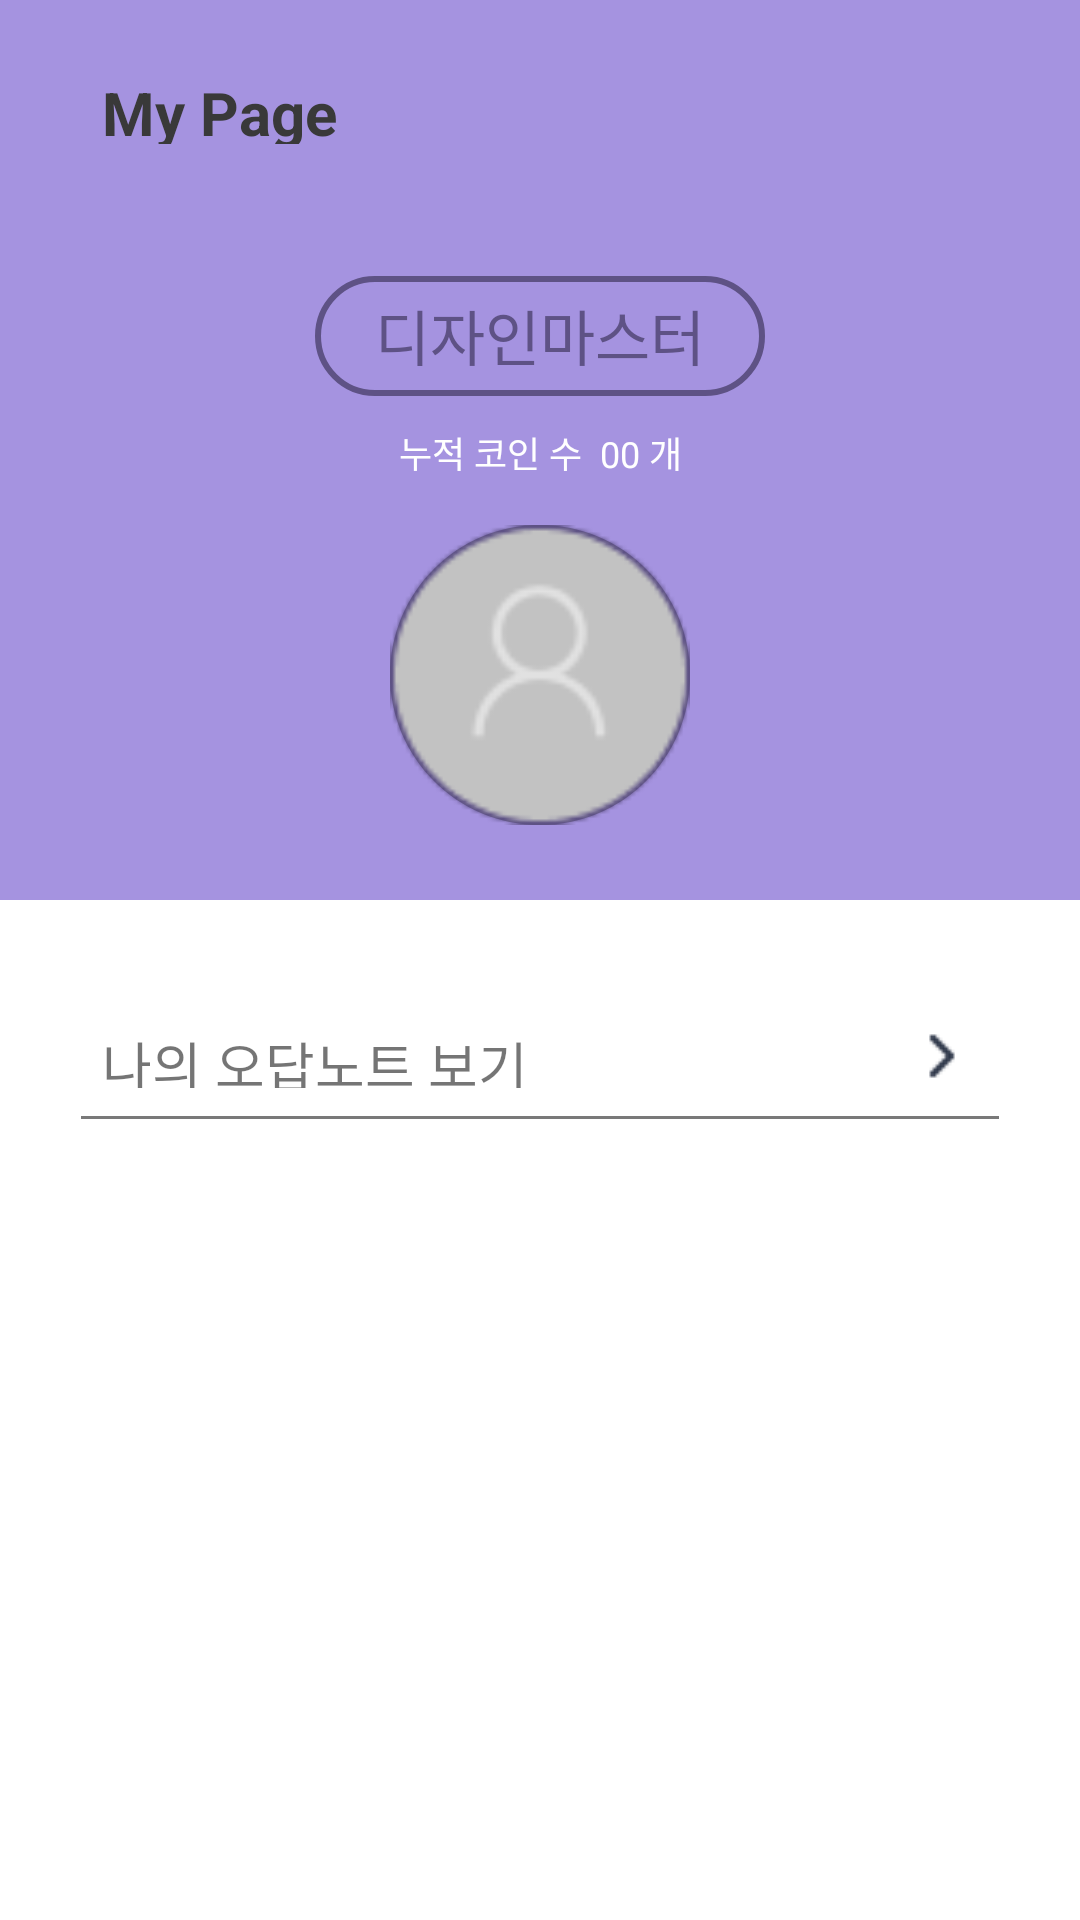

Where to tap for icons on this 1080 x 1920 app screen, as [x,y]:
right chev: [942,1056]
user: [540,675]
